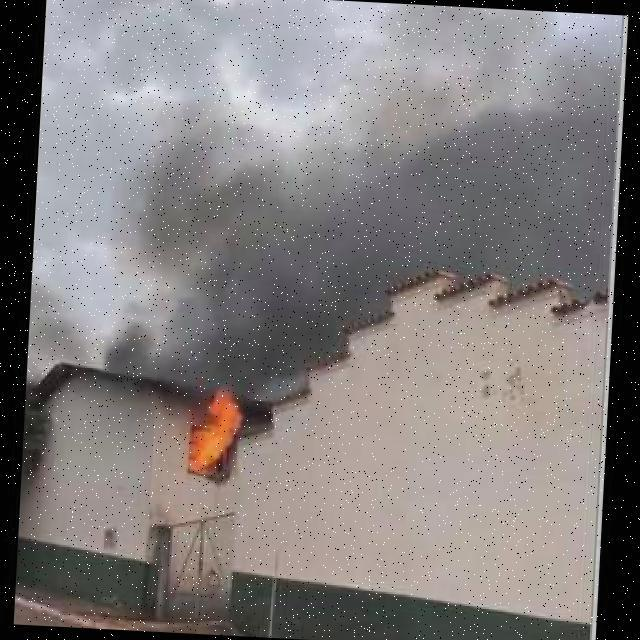Fire: (180, 373, 249, 476)
Smoke: (69, 78, 382, 393)
